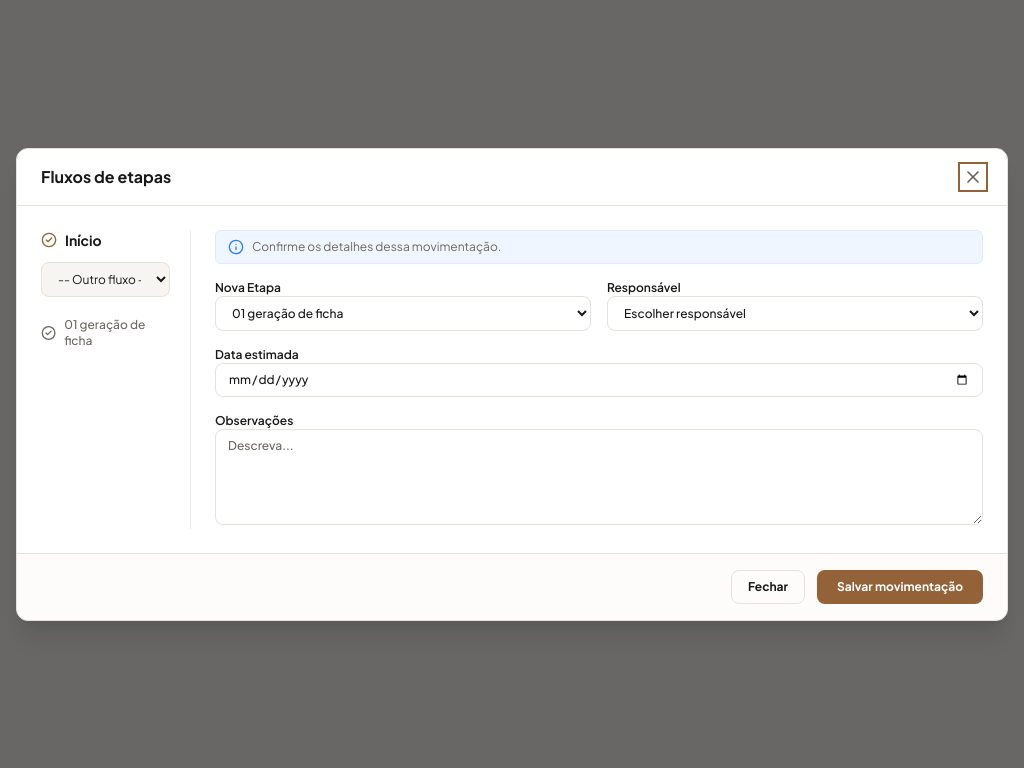
Test case: Conferência explícita, por variante, antes da entrega › entrega valida no servidor só após confirmação do zero, mantendo o rascunho intacto
Select "02 engenharia recebimento" in the dropdown labelled "Nova Etapa" at (403, 313), box 215,296 -> 591,330
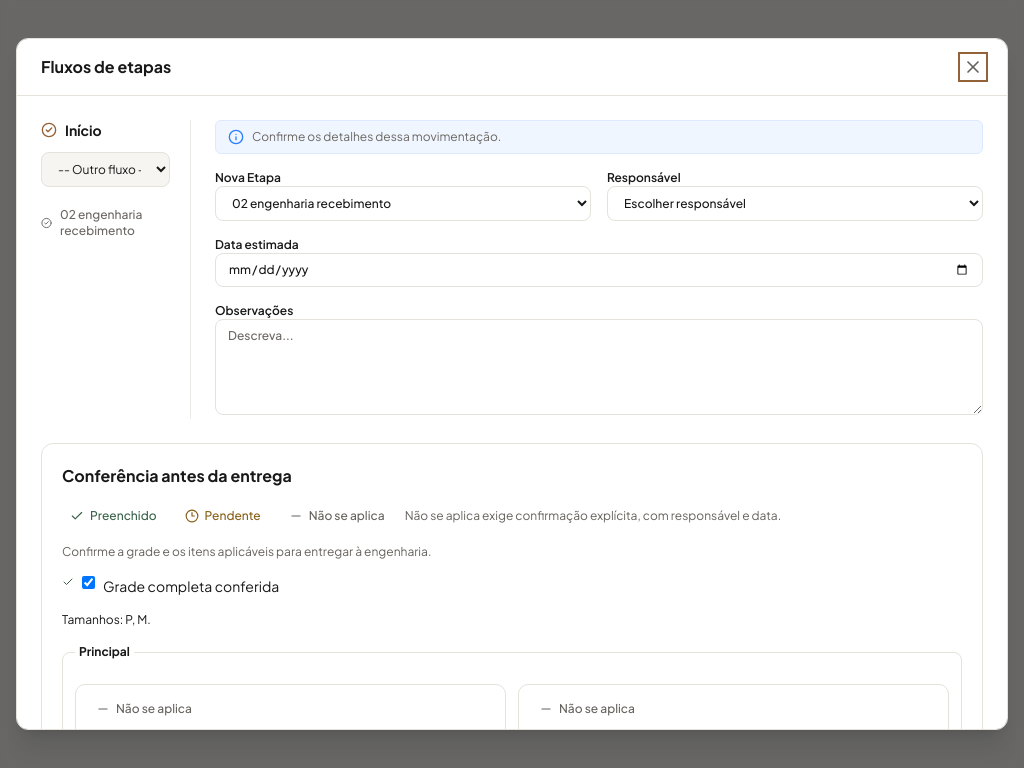
Select "Estilista teste" in the dropdown labelled "Responsável" at (795, 204), box 607,186 -> 983,221
(page scrolled)
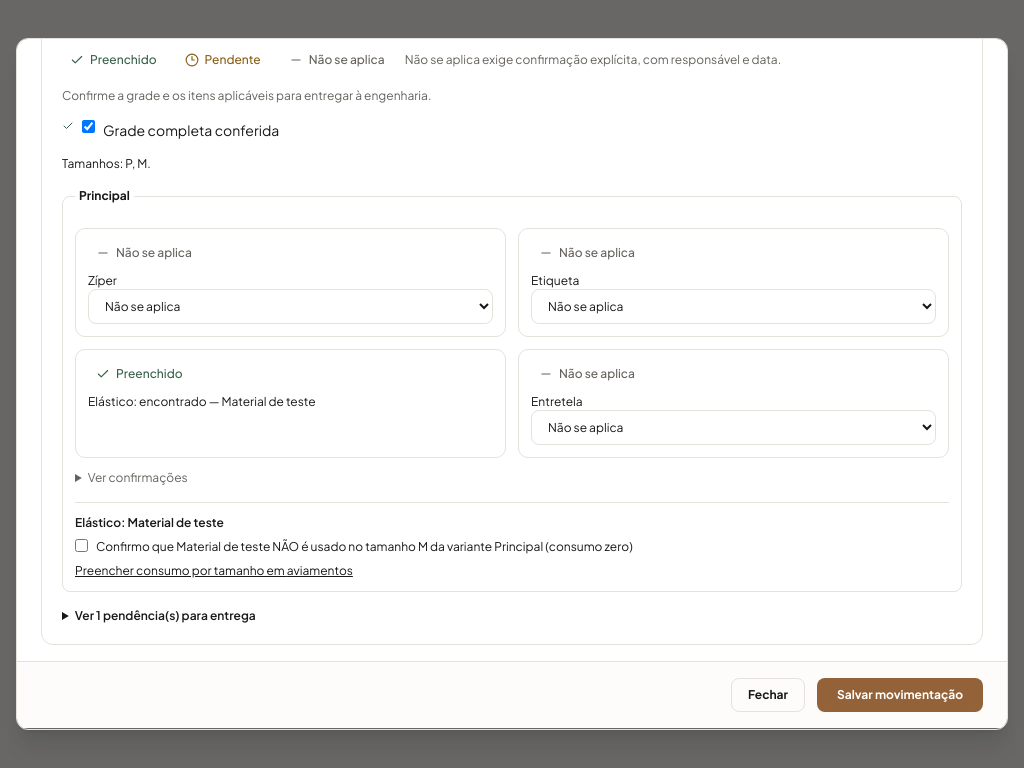
Click the button "Salvar movimentação" at (900, 695), box 817,678 -> 983,712
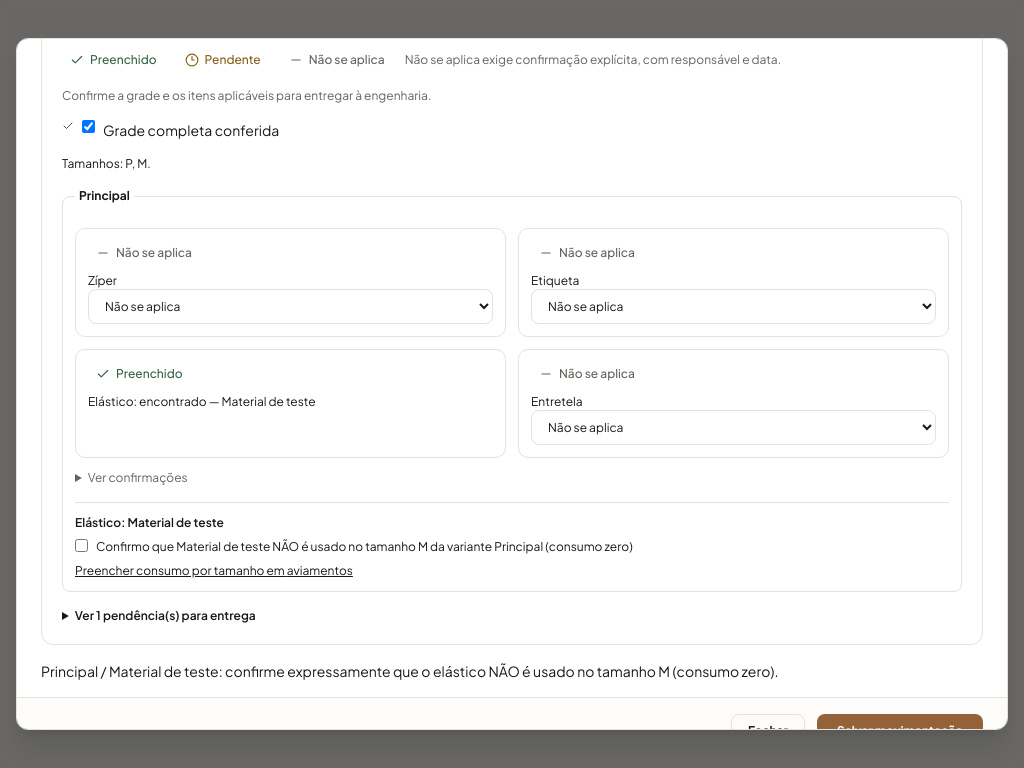
Check: the 2nd message shows "consumo zero", box 41,662 -> 778,680
Click the checkbox labelled "Confirmo que Material de teste NÃO é usado no tamanho M da variante Principal" at (82, 546), box 75,539 -> 88,552
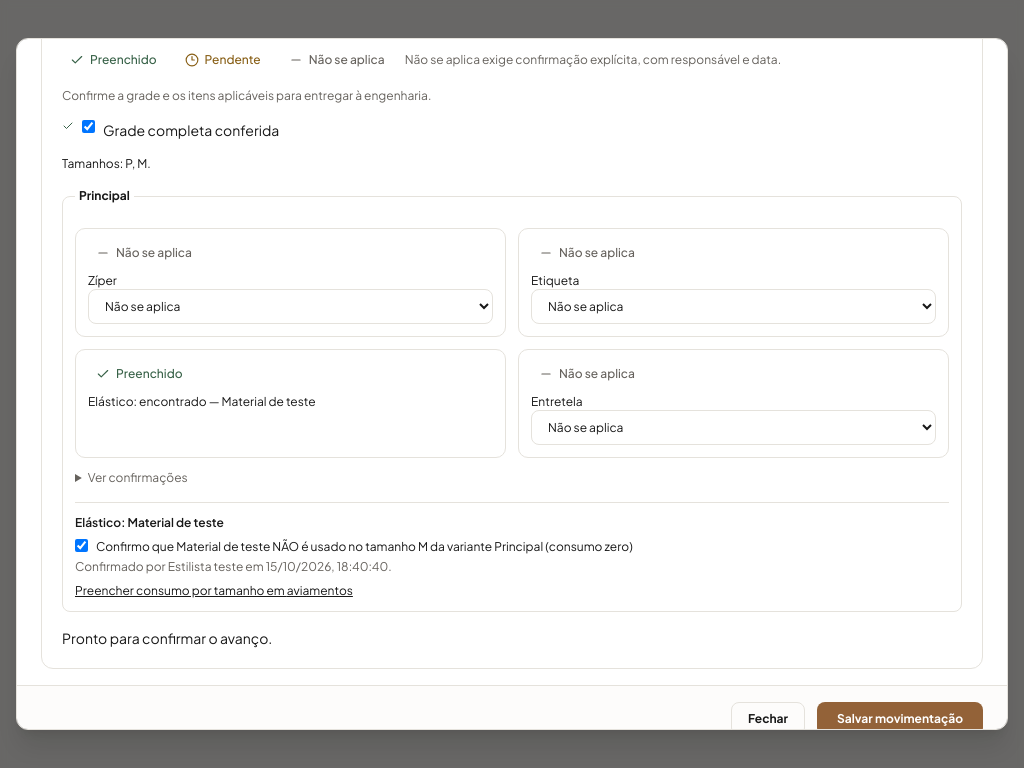
Click the button "Salvar movimentação" at (900, 719), box 817,702 -> 983,736
(page scrolled)
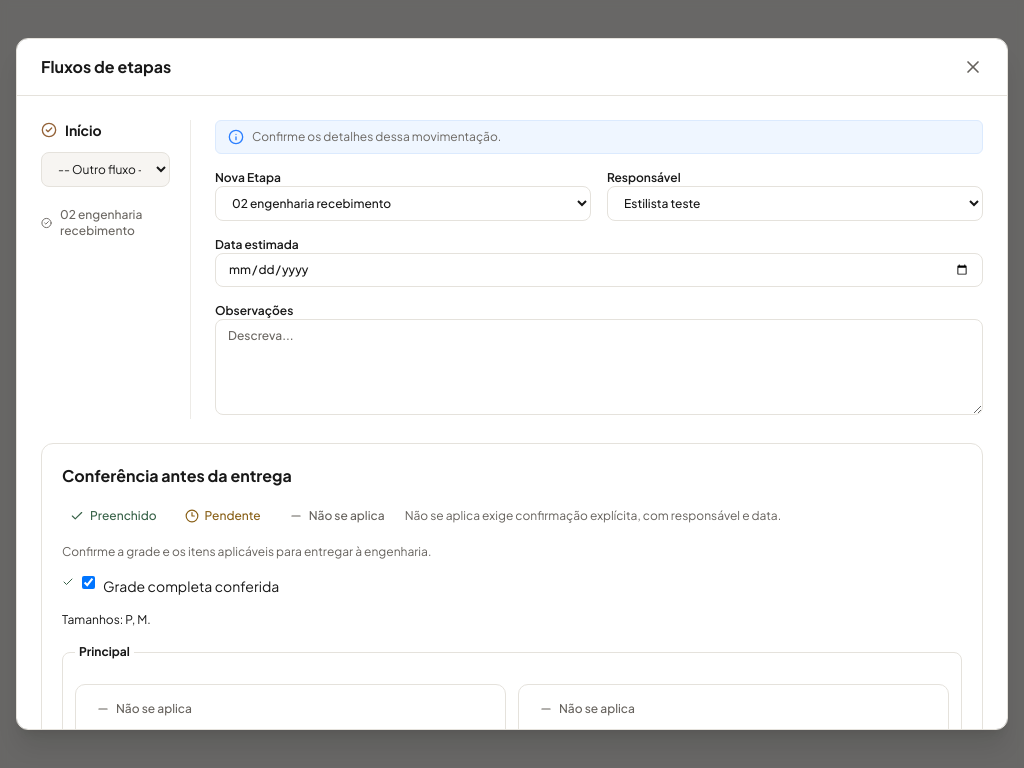
Check: the element showing "02 engenharia recebimento" is shown, box 41,207 -> 142,238
